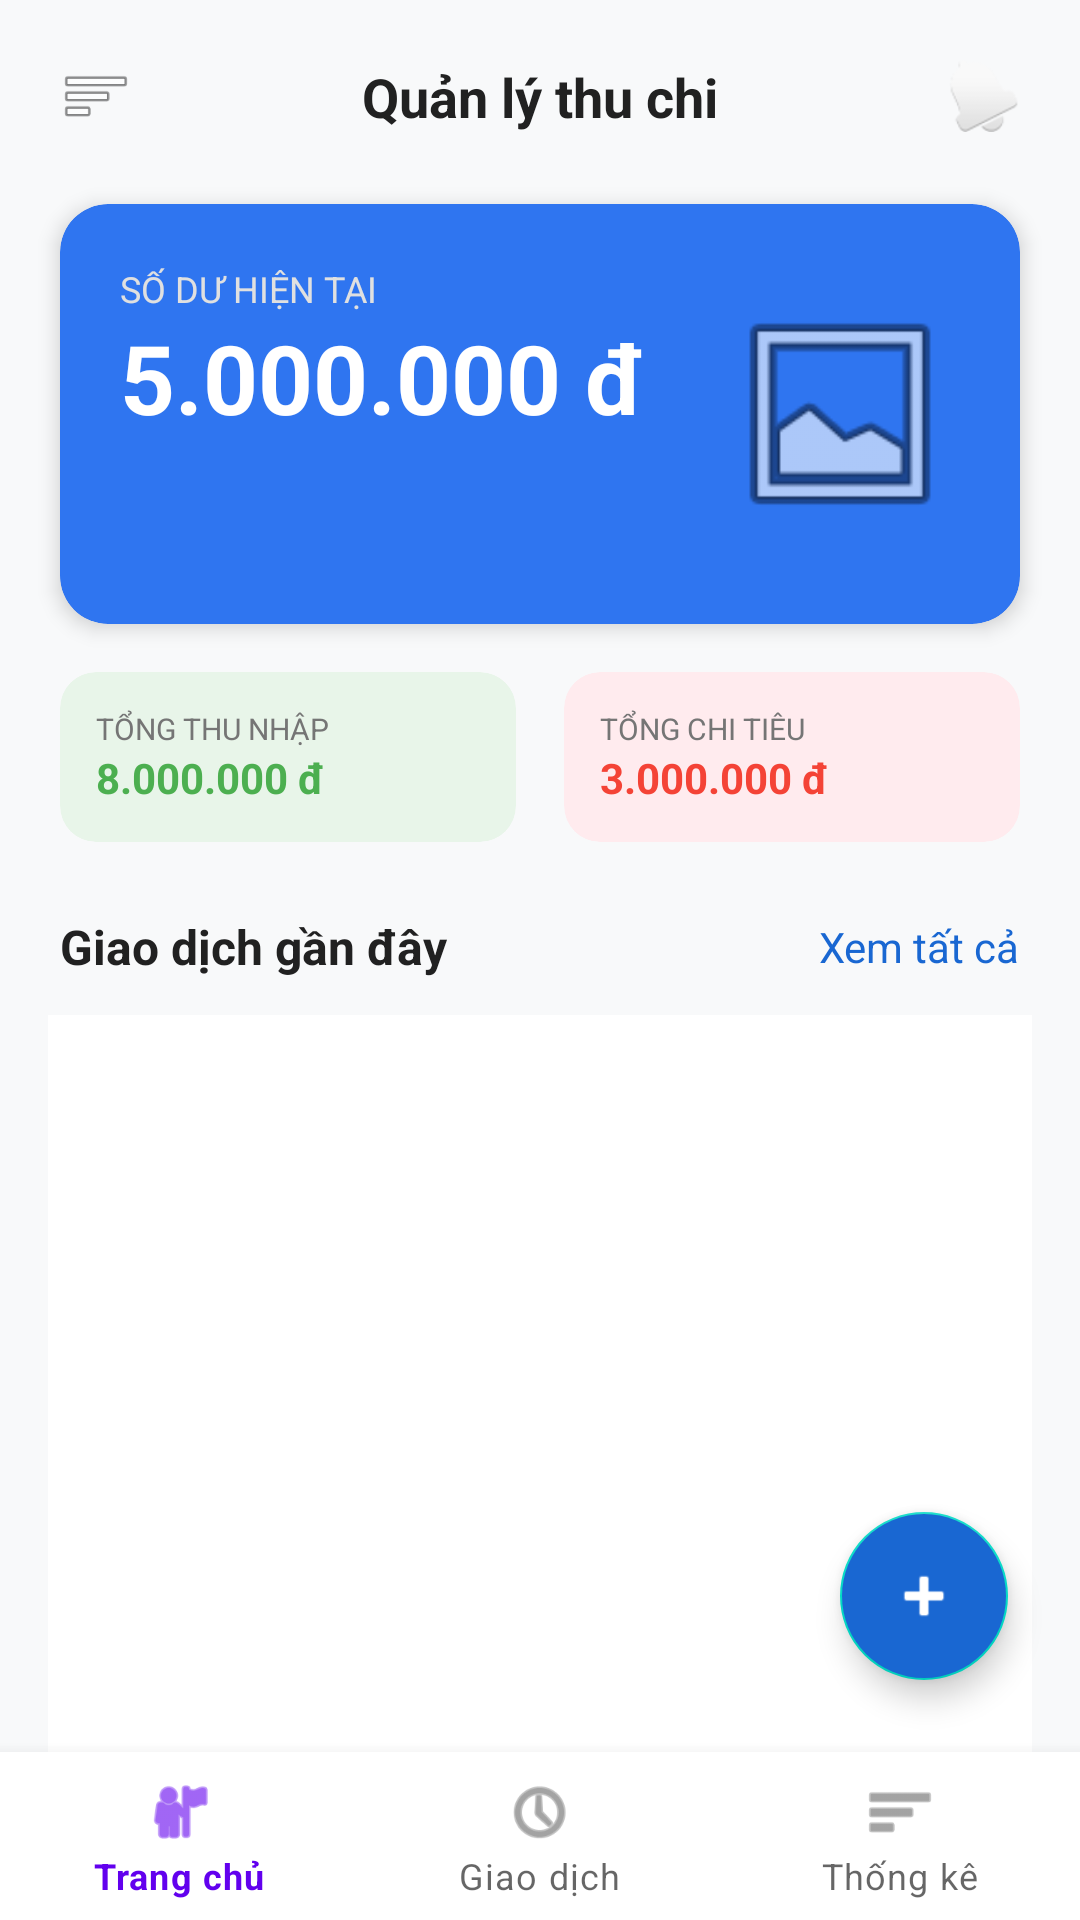

Where icons sit on this 1080px x 1920px app screen, as rect(x1, y1, x2, y2):
add: rect(840, 1512, 1008, 1680)
gallery: rect(749, 323, 931, 505)
sort by size: rect(65, 76, 127, 117)
